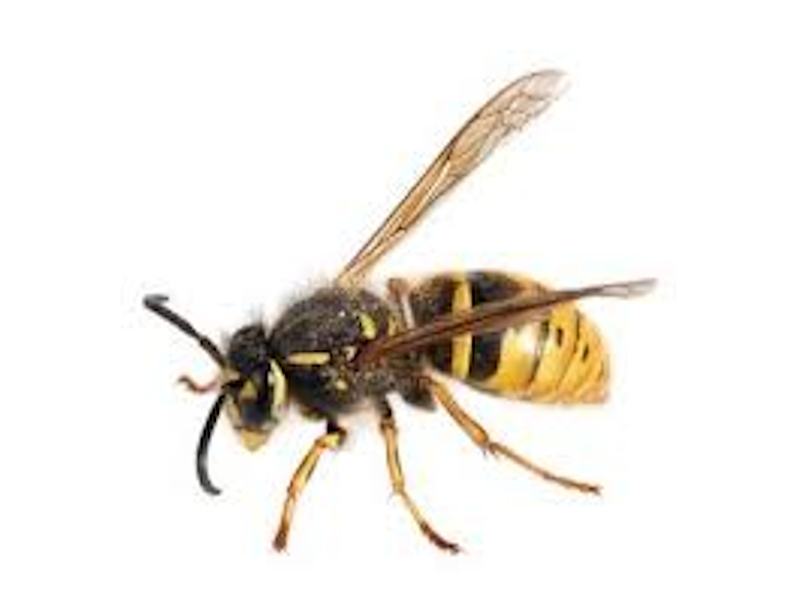chax: (127, 55, 679, 580)
